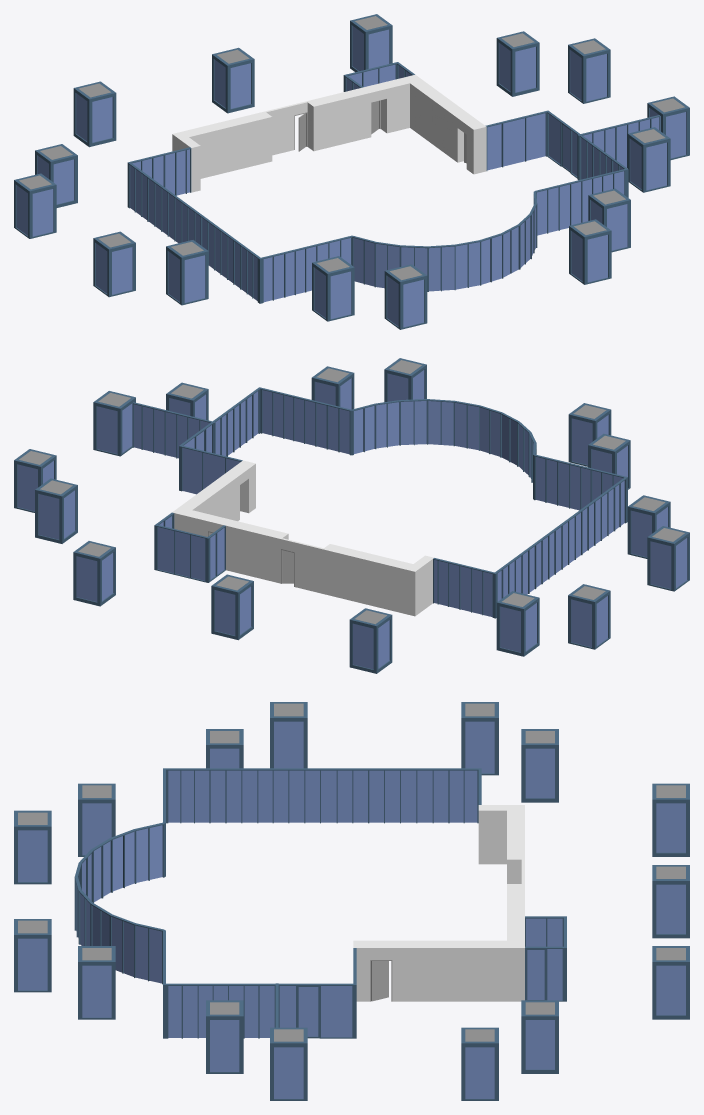
The model's file is 03. Floor plans Parking Level 3 2021.10.06.glb.
3 renders of one model, top to bottom at view 1: azimuth 30°, elevation 25°; view 2: azimuth 150°, elevation 25°; view 3: azimuth 270°, elevation 25°, orthographic. The views are drawn at different scales.
Parts seen in each view (by area): view 1: Floor plans Parking Level 3 (1), Floor plans Parking Level 3 Window Glass, Floor plans Parking Level 3 Wall, Floor plans Parking Level 3 Window Joinery; view 2: Floor plans Parking Level 3 (1), Floor plans Parking Level 3 Window Glass, Floor plans Parking Level 3 Wall, Floor plans Parking Level 3 Window Joinery; view 3: Floor plans Parking Level 3 (1), Floor plans Parking Level 3 Window Glass, Floor plans Parking Level 3 Wall, Floor plans Parking Level 3 Window Joinery.
Boxes of the visible parts, left/top/right/bottom form: Floor plans Parking Level 3 (1): left=14, top=14, right=689, bottom=329; Floor plans Parking Level 3 Window Glass: left=130, top=64, right=660, bottom=302; Floor plans Parking Level 3 Wall: left=172, top=74, right=486, bottom=192; Floor plans Parking Level 3 Window Joinery: left=127, top=62, right=660, bottom=303; Floor plans Parking Level 3 (1): left=14, top=358, right=689, bottom=673; Floor plans Parking Level 3 Window Glass: left=132, top=390, right=624, bottom=616; Floor plans Parking Level 3 Wall: left=172, top=460, right=433, bottom=616; Floor plans Parking Level 3 Window Joinery: left=122, top=387, right=627, bottom=618; Floor plans Parking Level 3 (1): left=14, top=702, right=689, bottom=1100; Floor plans Parking Level 3 Window Glass: left=76, top=770, right=562, bottom=1037; Floor plans Parking Level 3 Wall: left=353, top=805, right=524, bottom=1001; Floor plans Parking Level 3 Window Joinery: left=74, top=768, right=566, bottom=1038.
Bounding box in the file's own units: 38.44 × 3.02 × 32.16.
